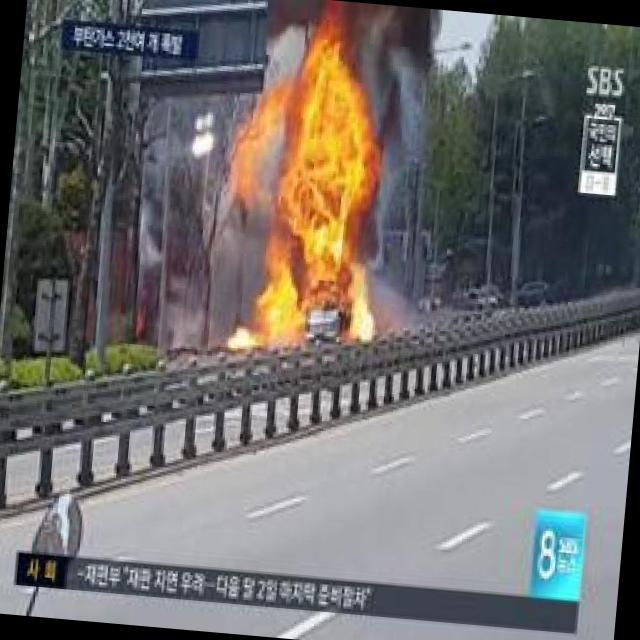Fire: (221, 0, 405, 359)
